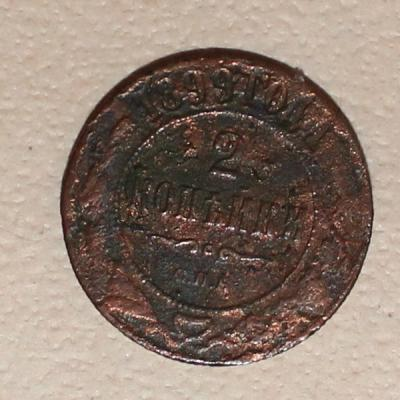numismatics: (59, 48, 375, 368)
